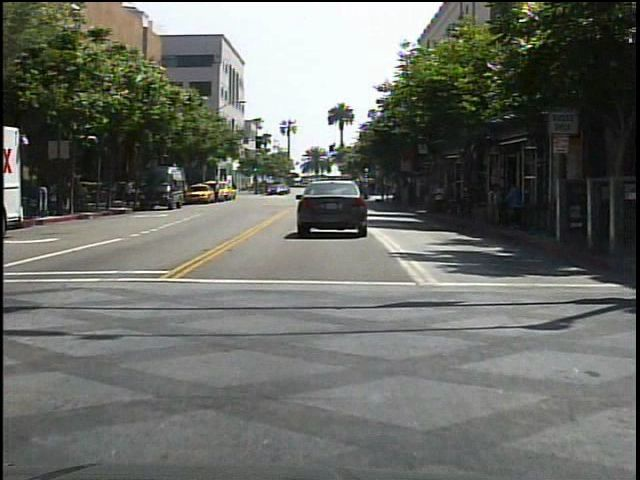person: (430, 178, 450, 219)
